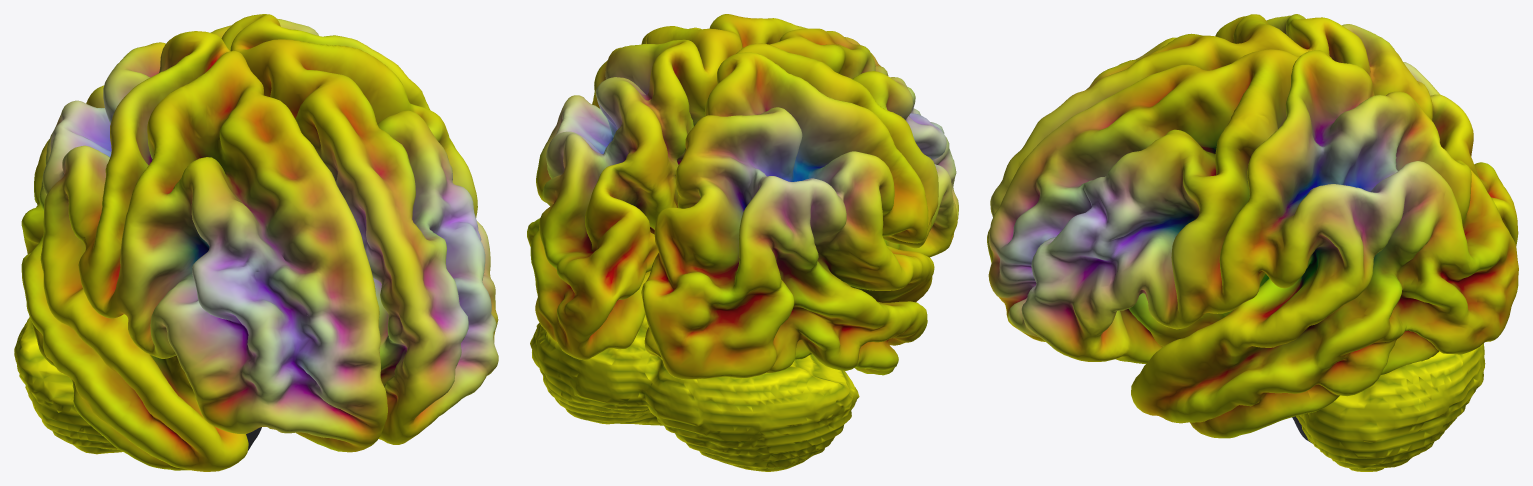
File: cortical-instrument.glb
3 views of the same model, side by side, from view 1: azimuth 30°, elevation 25°; view 2: azimuth 150°, elevation 25°; view 3: azimuth 270°, elevation 25° (orthographic). The views are drawn at different scales.
Visible parts, largest first — view 1: Cortex_Left, Cortex_Right, Cerebellum; view 2: Cortex_Left, Cortex_Right, Cerebellum; view 3: Cortex_Right, Cortex_Left, Cerebellum.
Boxes of the visible parts, x1,y1,x2,y2 form: Cortex_Left: (21,31,387,471); Cortex_Right: (210,14,498,444); Cerebellum: (14,317,122,454); Cortex_Left: (641,28,958,379); Cortex_Right: (527,14,807,360); Cerebellum: (530,315,859,471); Cortex_Right: (988,49,1518,438); Cortex_Left: (987,14,1518,262); Cerebellum: (1296,343,1485,471).
Bounding box in the file's own units: 2.48 × 2.66 × 3.11.
